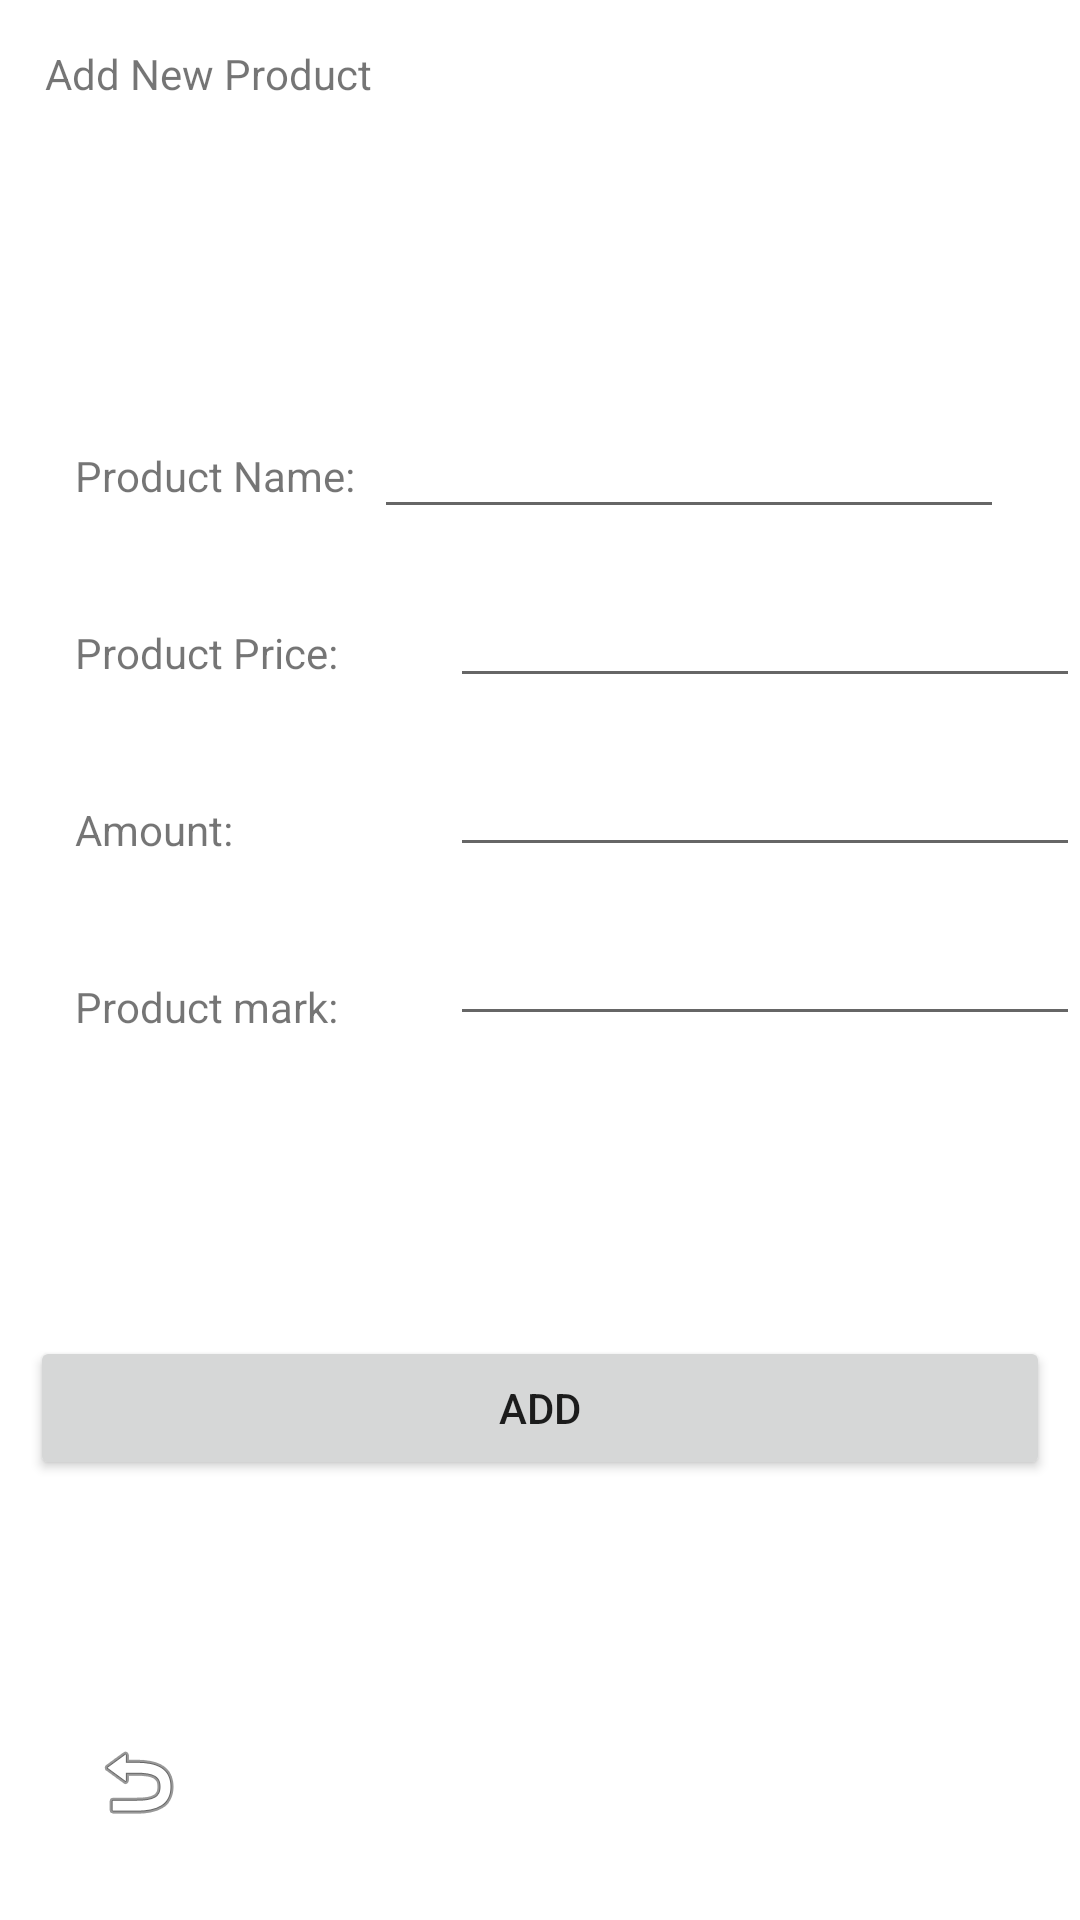

Locate icon controls on the screen. Image size 1080×1920, boxes as (x1, y1, x2, y2).
revert: (105, 1751, 174, 1814)
